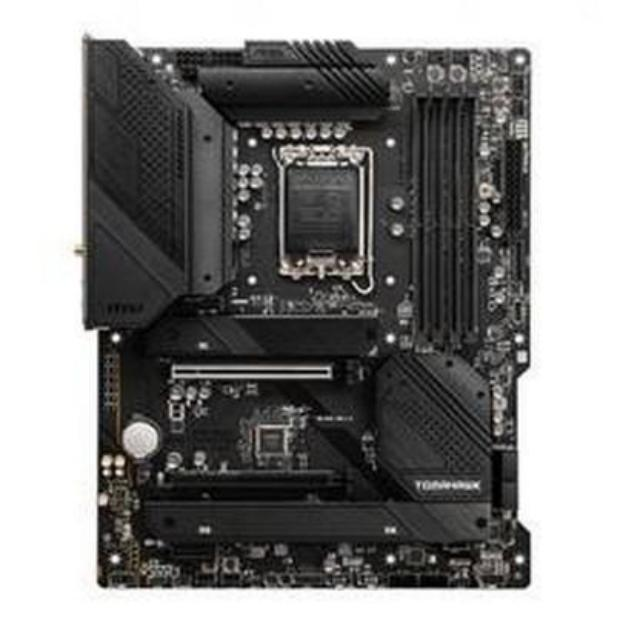Mainboard: (67, 31, 550, 600)
